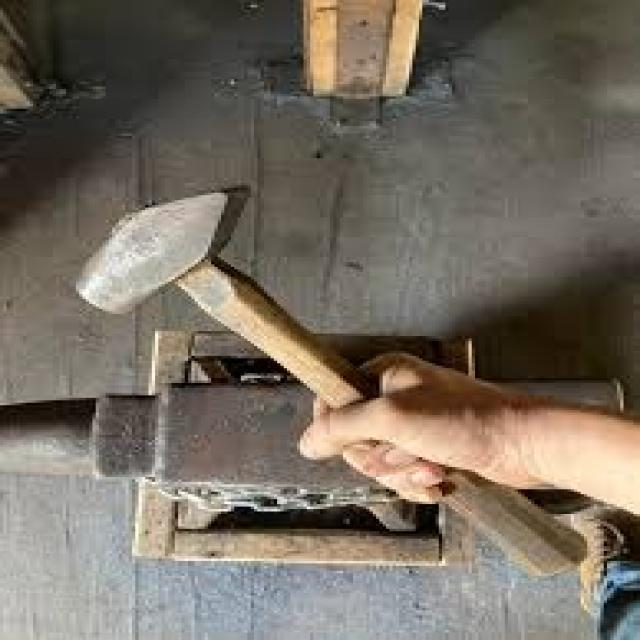hammer: (54, 170, 596, 580)
